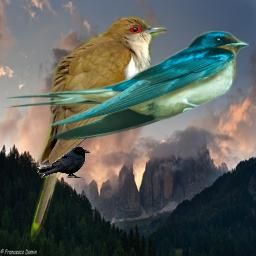Crow: (37, 146, 90, 178)
Cuckoo: (31, 14, 167, 242)
Swallow: (1, 30, 249, 142)
